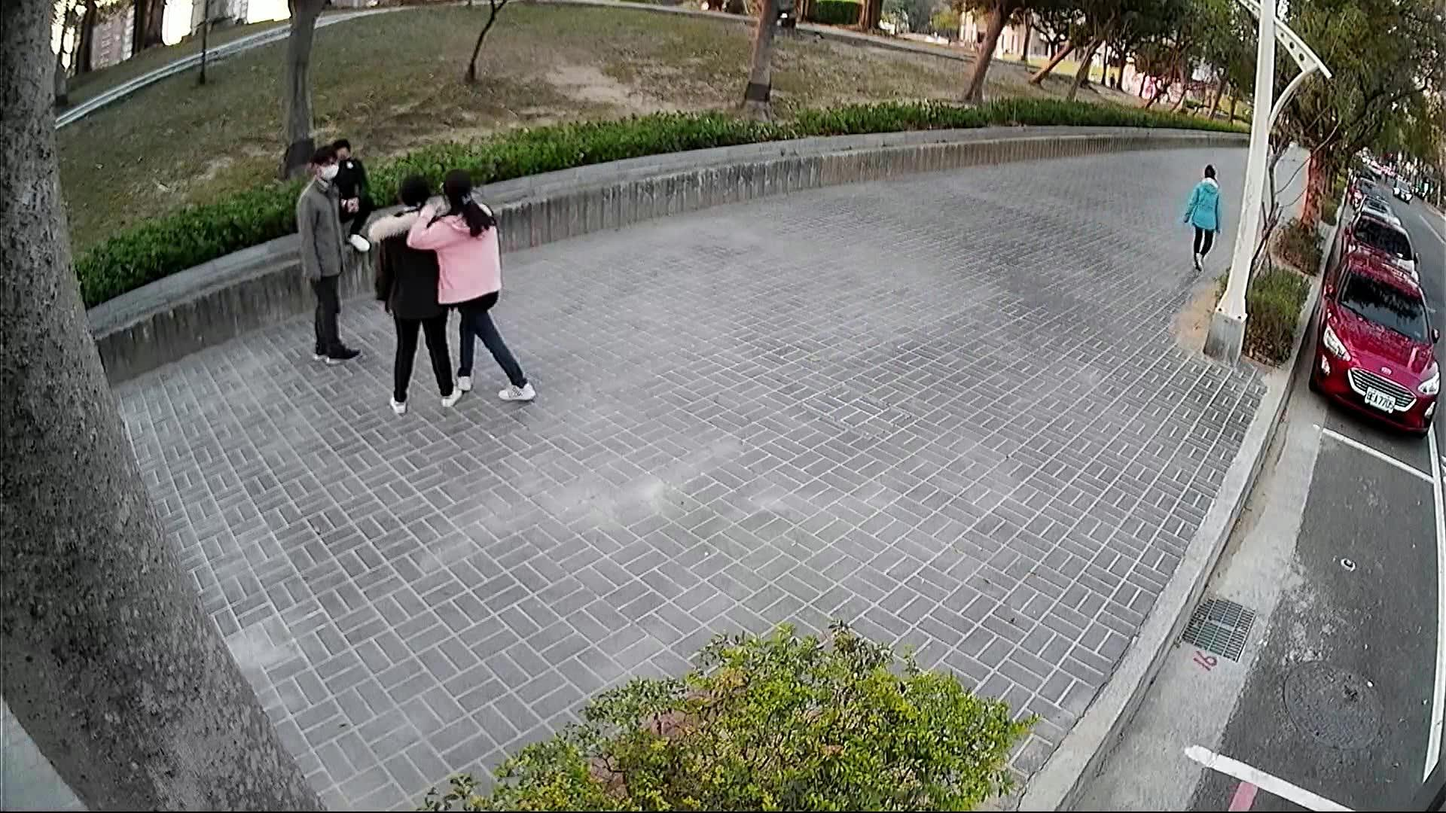person: (401, 161, 539, 408), (361, 166, 464, 416), (291, 139, 365, 366), (325, 129, 374, 256), (1177, 154, 1227, 275)
